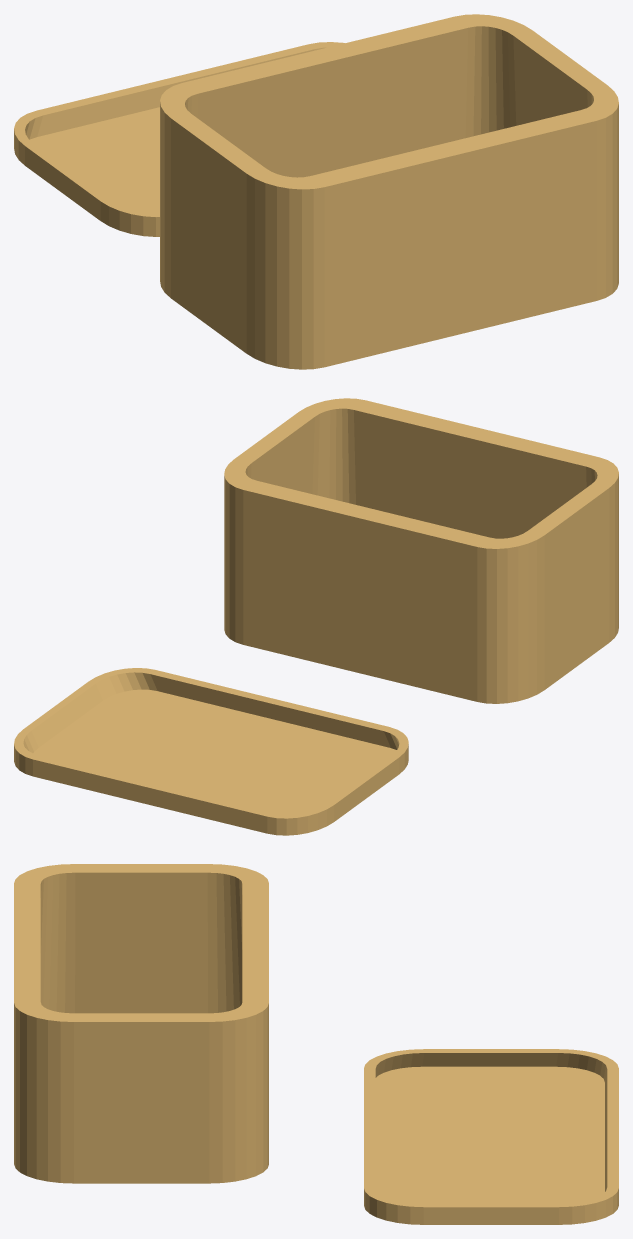
File: tupperytapa.fbx
3 views of the same model, one above another, from view 1: azimuth 30°, elevation 25°; view 2: azimuth 150°, elevation 25°; view 3: azimuth 270°, elevation 25° (orthographic). The views are drawn at different scales.
Parts seen in each view (by area): view 1: Cube.003, Cube.004; view 2: Cube.003, Cube.004; view 3: Cube.003, Cube.004.
Part boxes in pixels (x1,y1,x2,y2): Cube.003: [160, 14, 618, 369]; Cube.004: [14, 42, 344, 236]; Cube.003: [224, 398, 618, 703]; Cube.004: [14, 668, 408, 835]; Cube.003: [14, 864, 268, 1183]; Cube.004: [364, 1049, 618, 1224].
Size of the model in its own units: 333 by 157 by 474.
